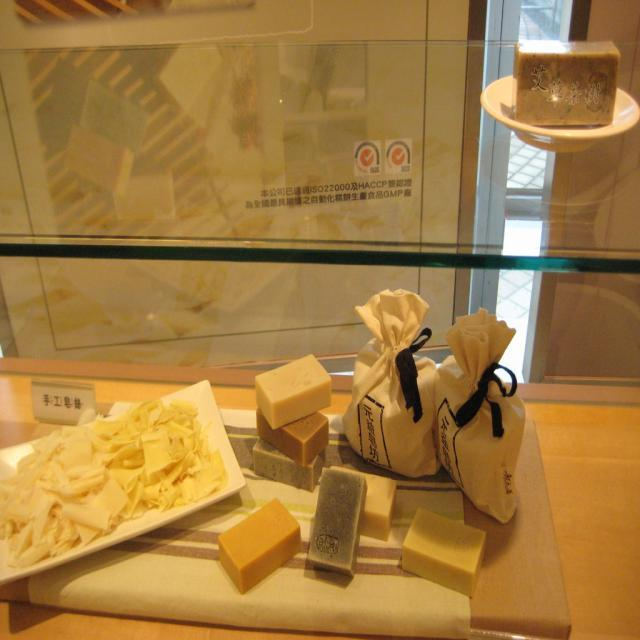Cheese: (0, 399, 230, 569), (513, 38, 619, 124), (401, 502, 489, 597), (218, 496, 302, 594), (304, 465, 370, 577), (255, 352, 334, 428), (328, 465, 398, 541), (250, 435, 325, 491), (256, 409, 330, 465)
